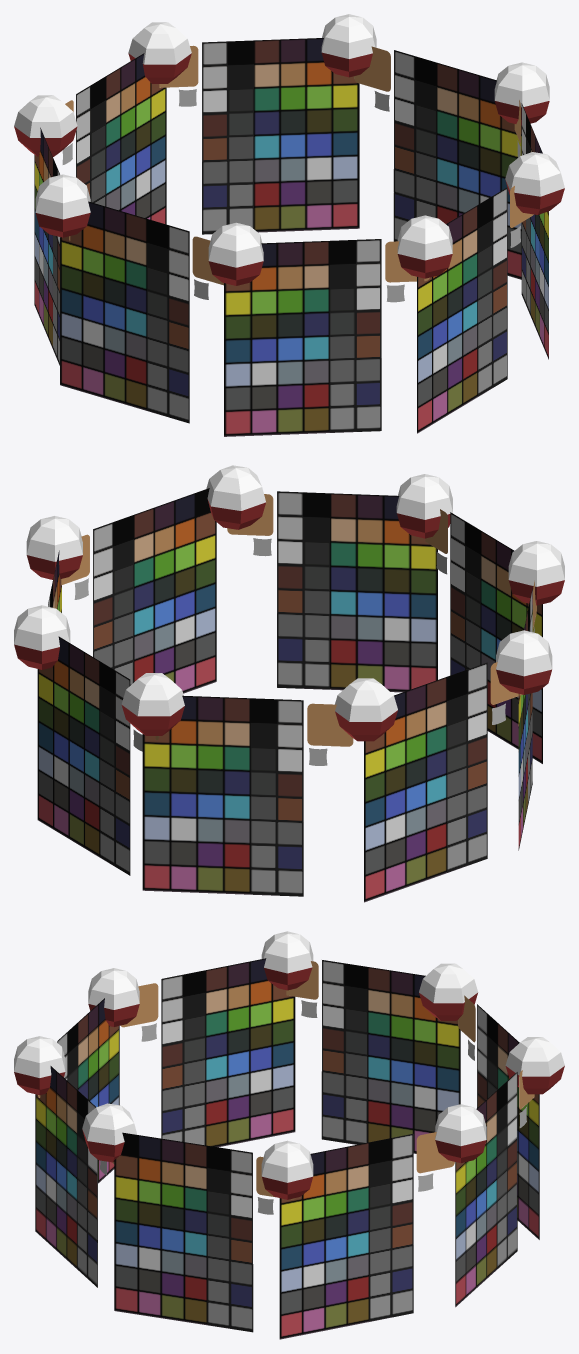
File: Fishnet.fbx
The picture shows the model from 3 angles, top to bottom: view 1: azimuth 30°, elevation 25°; view 2: azimuth 150°, elevation 25°; view 3: azimuth 270°, elevation 25°; orthographic projection. The views are drawn at different scales.
Visible parts, largest first — view 1: Fishent, Bouy; view 2: Fishent, Bouy; view 3: Fishent, Bouy.
Boxes of the visible parts, left/top/right/bottom form: Fishent: left=34, top=38, right=548, bottom=436; Bouy: left=14, top=14, right=564, bottom=285; Fishent: left=37, top=488, right=542, bottom=902; Bouy: left=14, top=465, right=564, bottom=741; Fishent: left=35, top=958, right=539, bottom=1339; Bouy: left=14, top=931, right=564, bottom=1199.
Bounding box in the file's own units: 2.24 × 0.88 × 2.22.
